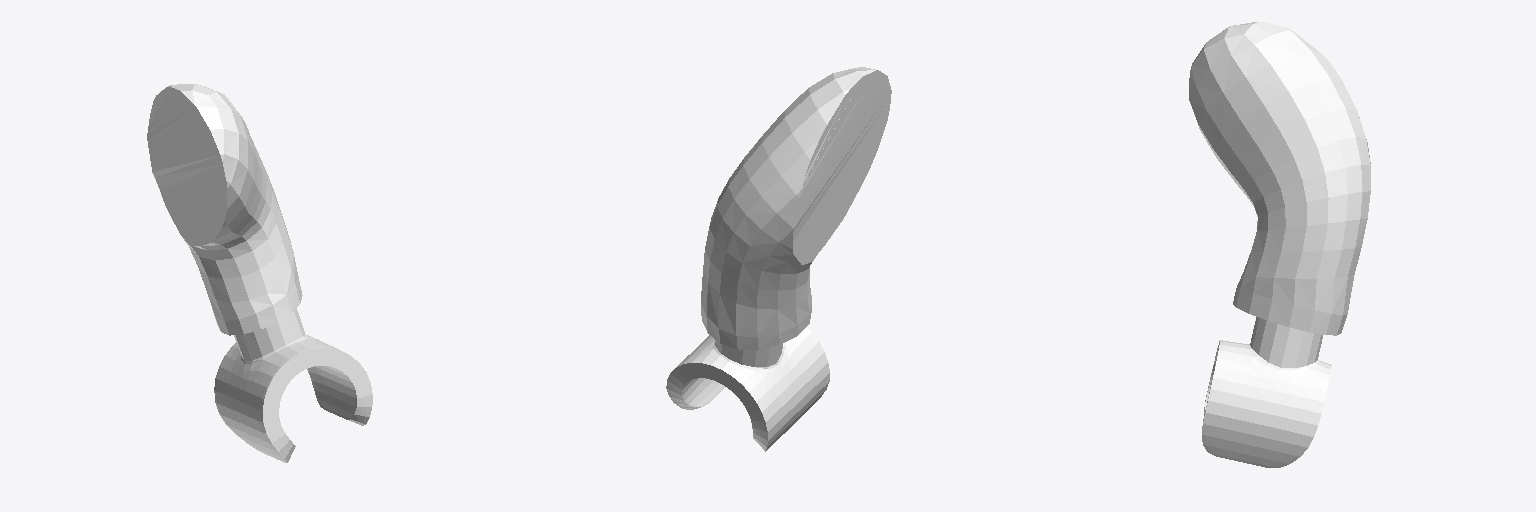
3 renders of one model, left to right at view 1: azimuth 30°, elevation 25°; view 2: azimuth 150°, elevation 25°; view 3: azimuth 270°, elevation 25°, orthographic.
Parts seen in each view (by area): view 1: brazoIzqMarge; view 2: brazoIzqMarge; view 3: brazoIzqMarge.
Part boxes in pixels (bbox=[...]): brazoIzqMarge: bbox=[147, 84, 372, 462]; brazoIzqMarge: bbox=[666, 67, 891, 451]; brazoIzqMarge: bbox=[1189, 21, 1370, 467].
Bounding box in the file's own units: 1.14 × 2.49 × 1.06.
Materials: 1 (1 with a texture image).